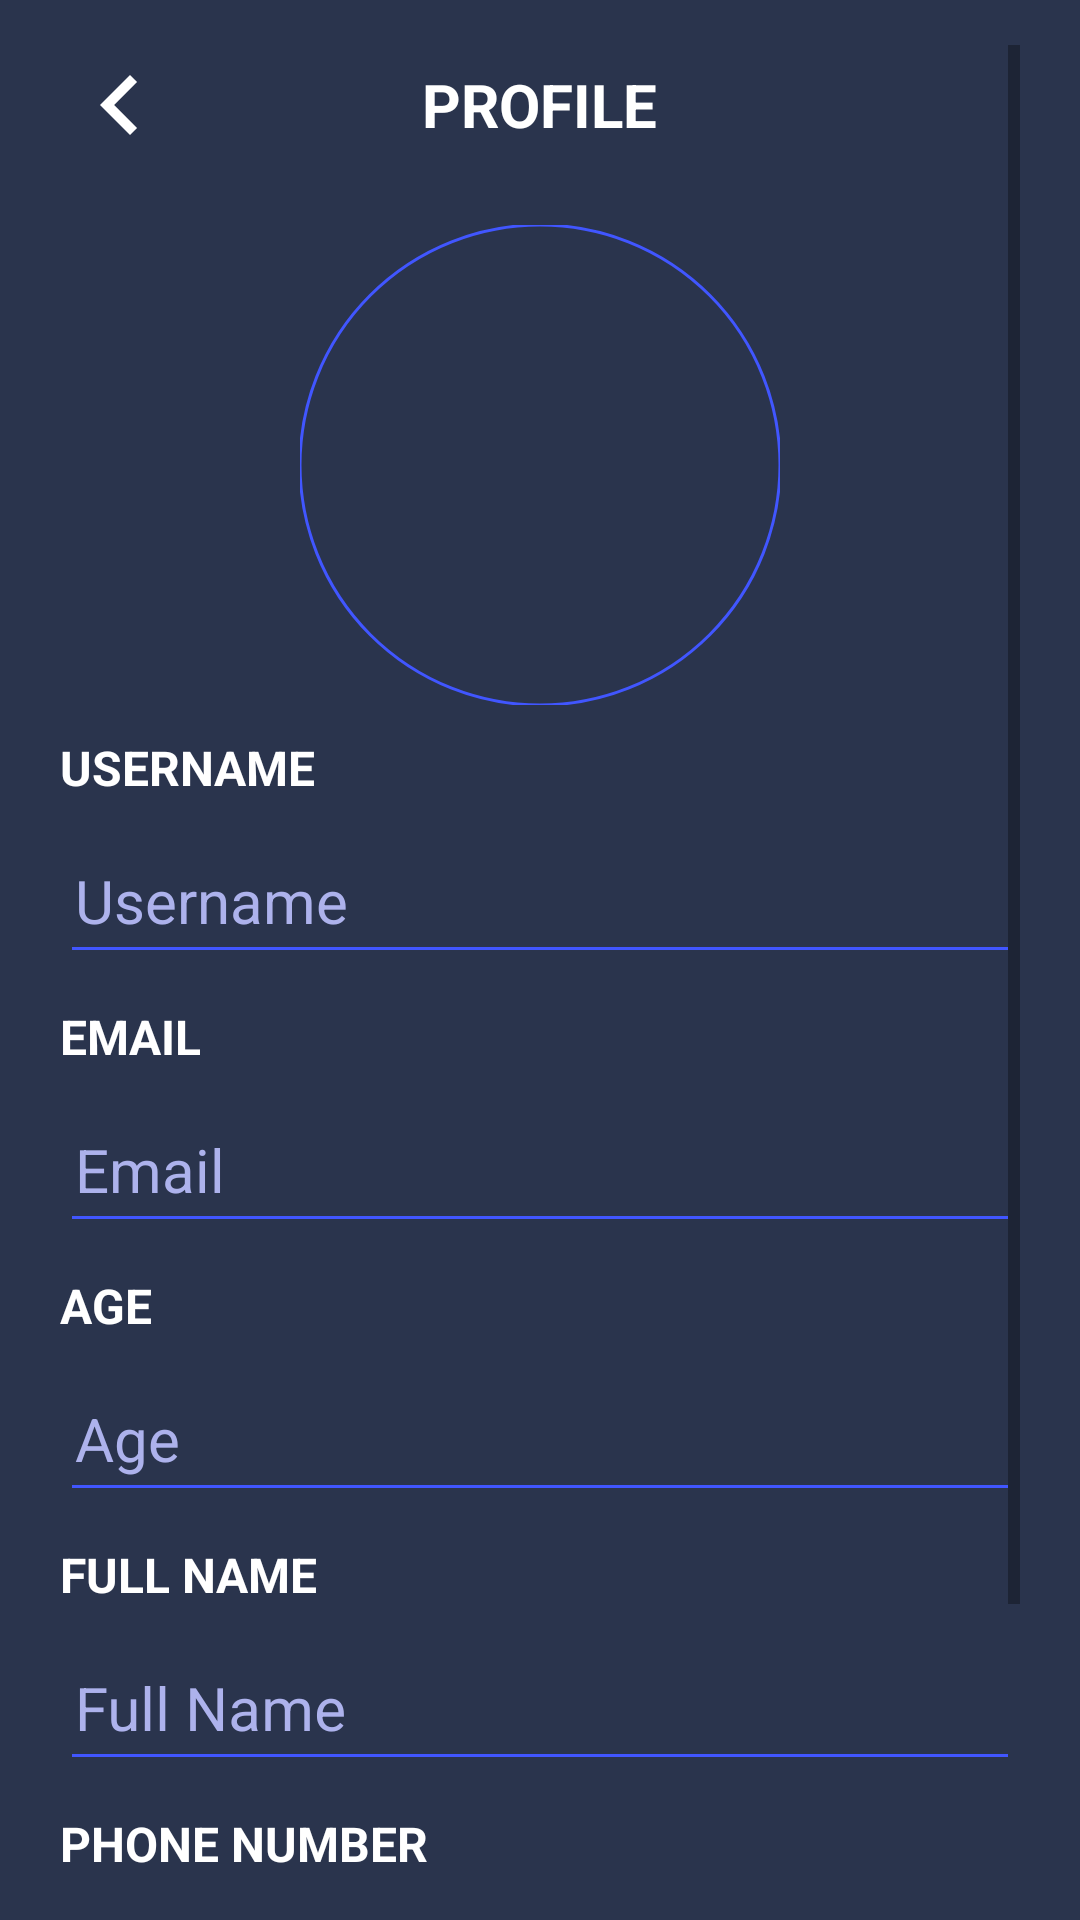

Point at icon controls on the screen. Image size 1080px x 1920px, points as (x,y).
chevron left: (118,105)
